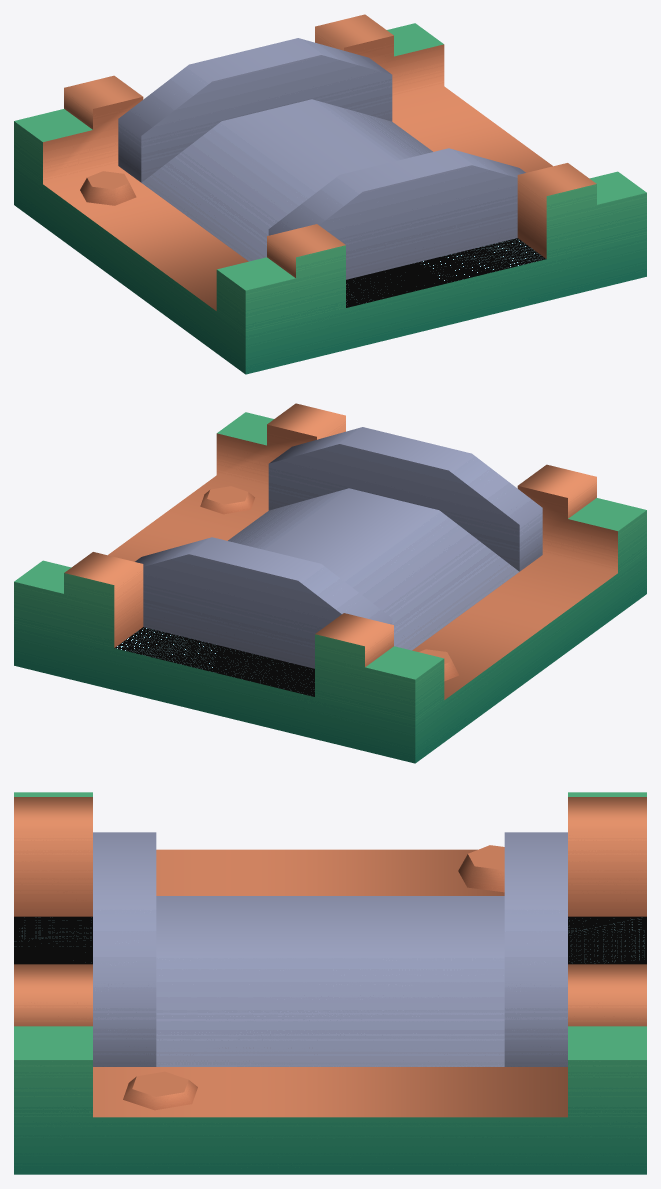
Rendered from tower-defense-kit--tile-river-bridge.glb.
The picture shows the model from 3 angles, top to bottom: view 1: azimuth 30°, elevation 25°; view 2: azimuth 150°, elevation 25°; view 3: azimuth 270°, elevation 25°; orthographic projection. The views are drawn at different scales.
Visible parts, largest first — view 1: tile-river-bridge; view 2: tile-river-bridge; view 3: tile-river-bridge.
Part boxes in pixels (x1=…): tile-river-bridge: x1=14, y1=14, x2=646, y2=374; tile-river-bridge: x1=14, y1=403, x2=646, y2=763; tile-river-bridge: x1=14, y1=792, x2=646, y2=1174.
Size of the model in its own units: 1 by 0.3 by 1.
1 material, 1 textured.
